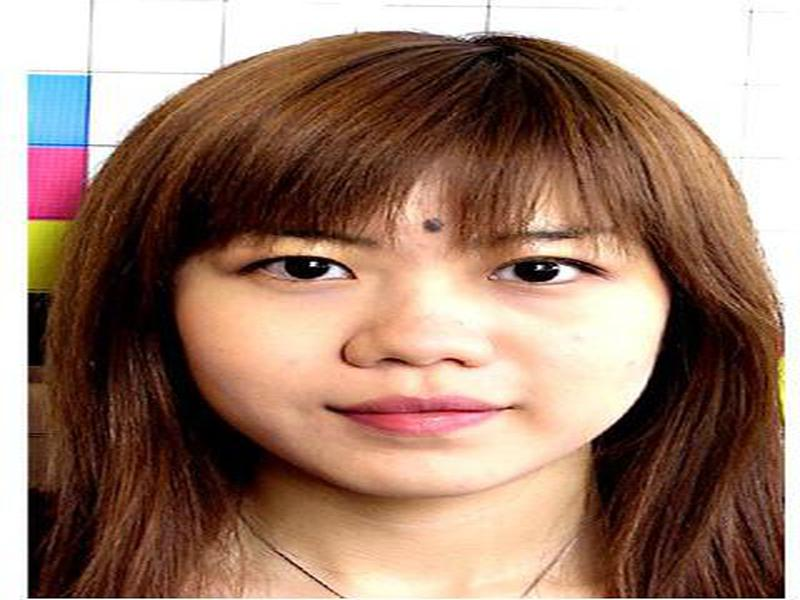without_mask: (178, 189, 666, 493)
